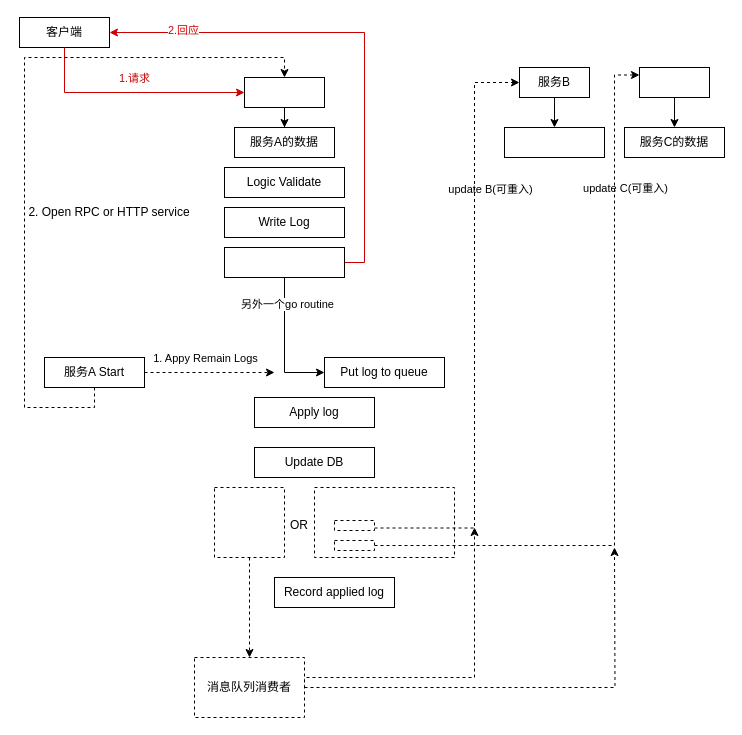
The diagram is 742 pixels wide and 735 high, and some of its shapes have lost their labels. Here are the shapes that lost their labels. From the top down, the box of each, then its label:
(244, 76, 324, 108): 服务A
(638, 66, 710, 98): 服务C
(504, 126, 604, 158): 服务B的数据
(224, 246, 344, 278): Update Memory
(214, 486, 284, 558): 写消息队列
(314, 486, 454, 558): 直接RPC调用
